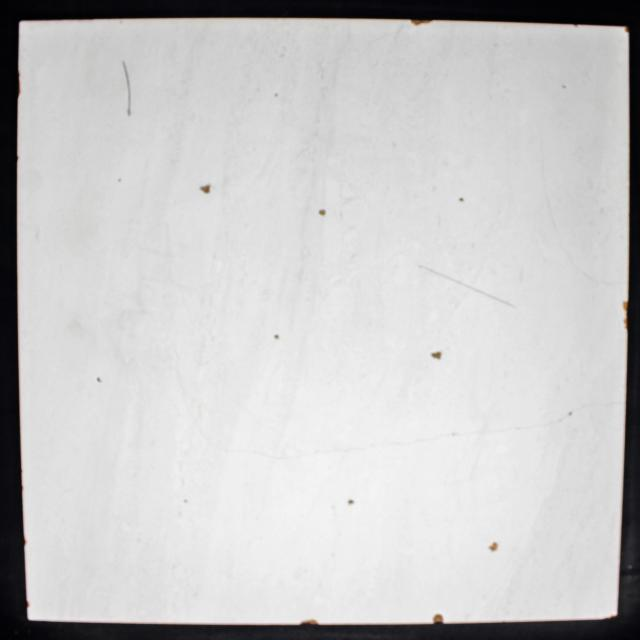edge-chipping: (410, 19, 432, 26), (299, 619, 318, 626), (433, 614, 443, 624), (623, 314, 628, 330), (622, 300, 628, 310), (626, 27, 630, 33), (562, 84, 566, 90), (274, 92, 279, 96), (574, 24, 577, 28)
hole: (199, 184, 211, 193), (490, 542, 499, 551), (431, 352, 442, 359), (96, 376, 102, 384), (318, 210, 326, 216), (459, 197, 465, 203), (347, 500, 355, 504), (273, 334, 279, 339)
line: (287, 430, 477, 460), (199, 402, 280, 457), (418, 264, 516, 308), (493, 404, 604, 431), (122, 60, 131, 114)
